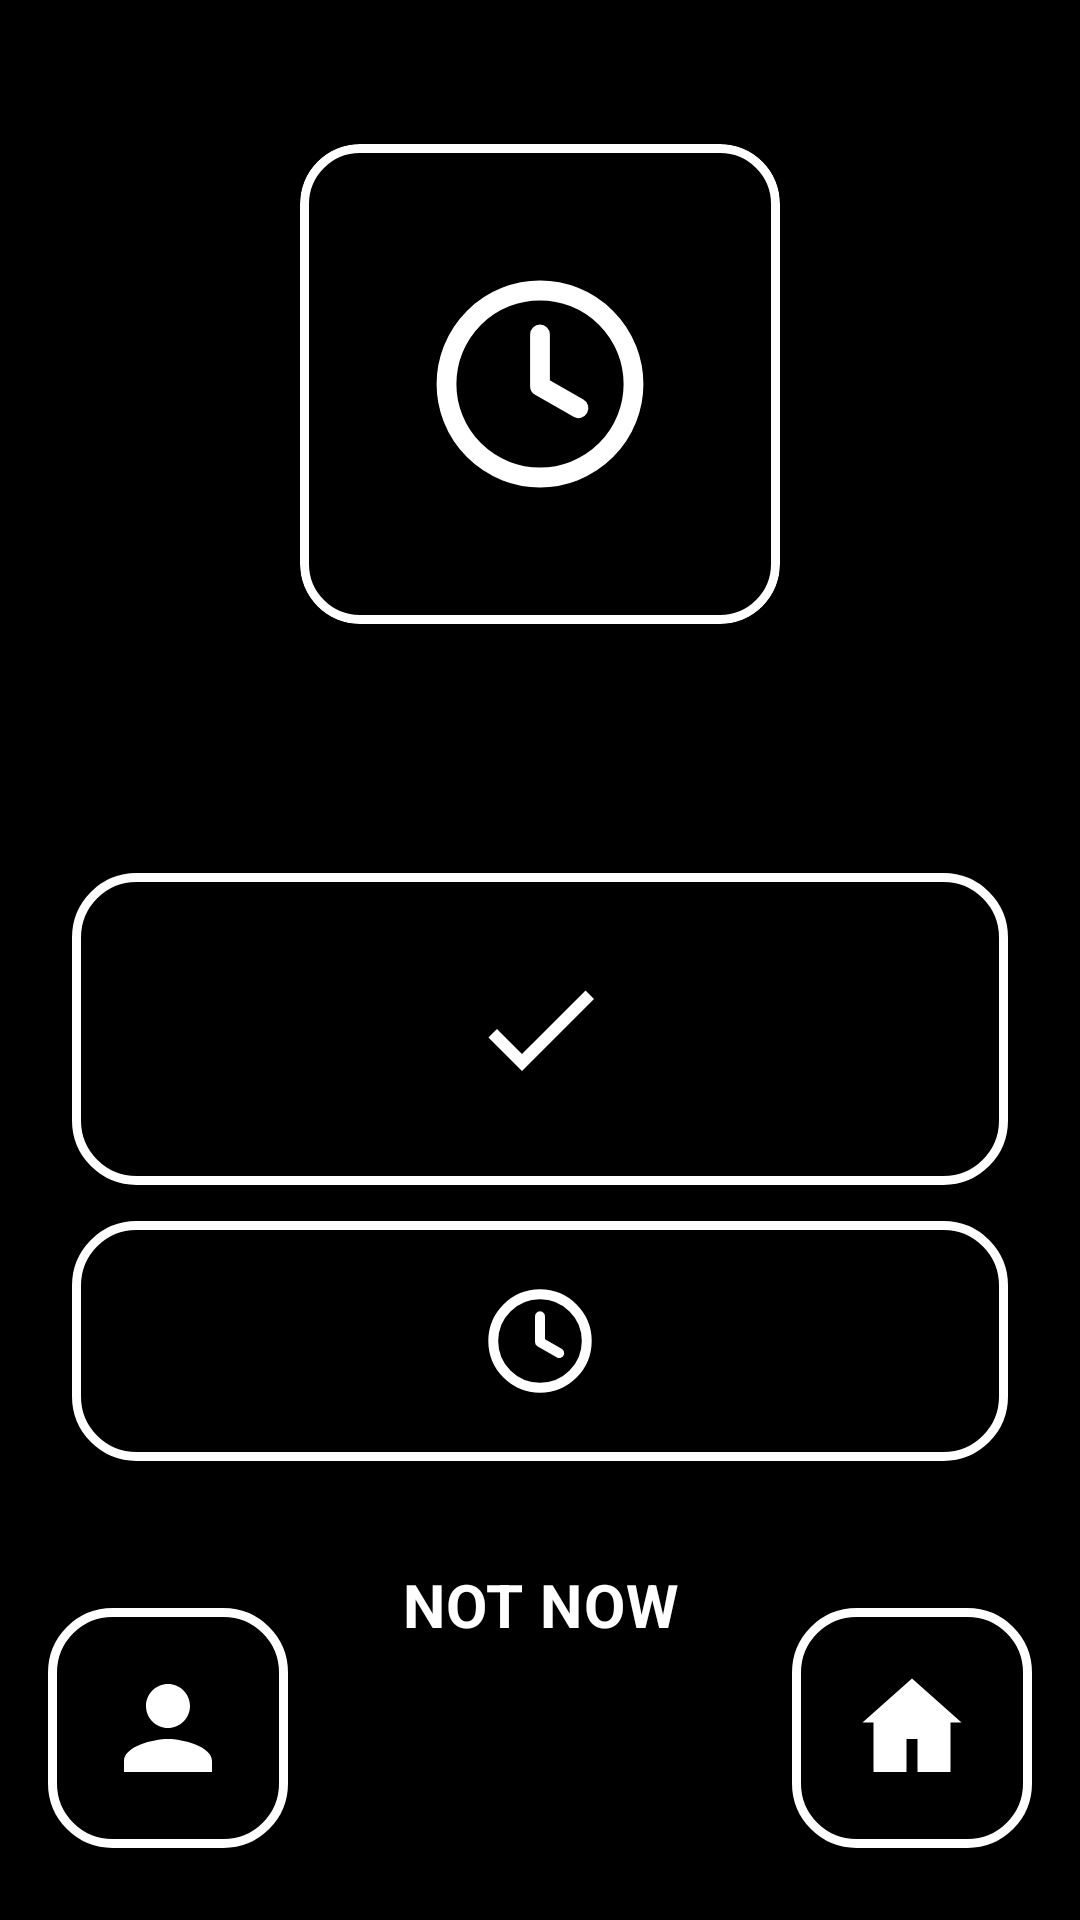

Icon click points for this 1080 x 1920 phone screenshot, format (x=x, y=y):
Home: (x=912, y=1728)
